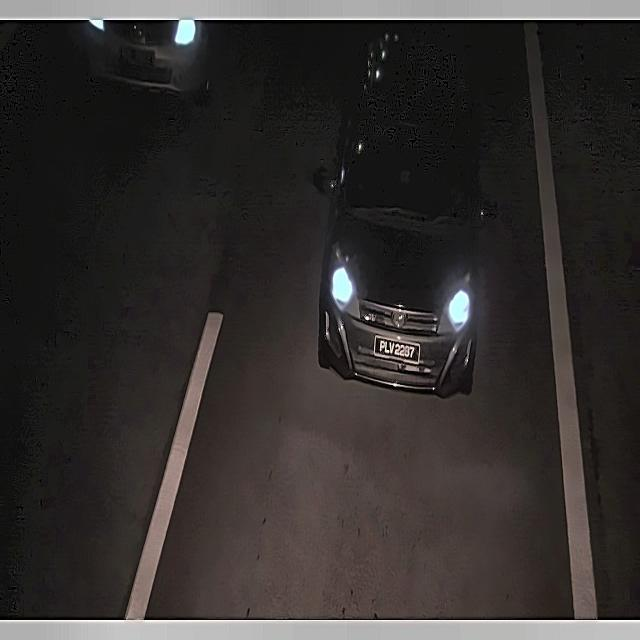car: (371, 327, 423, 372), (106, 39, 158, 72)
